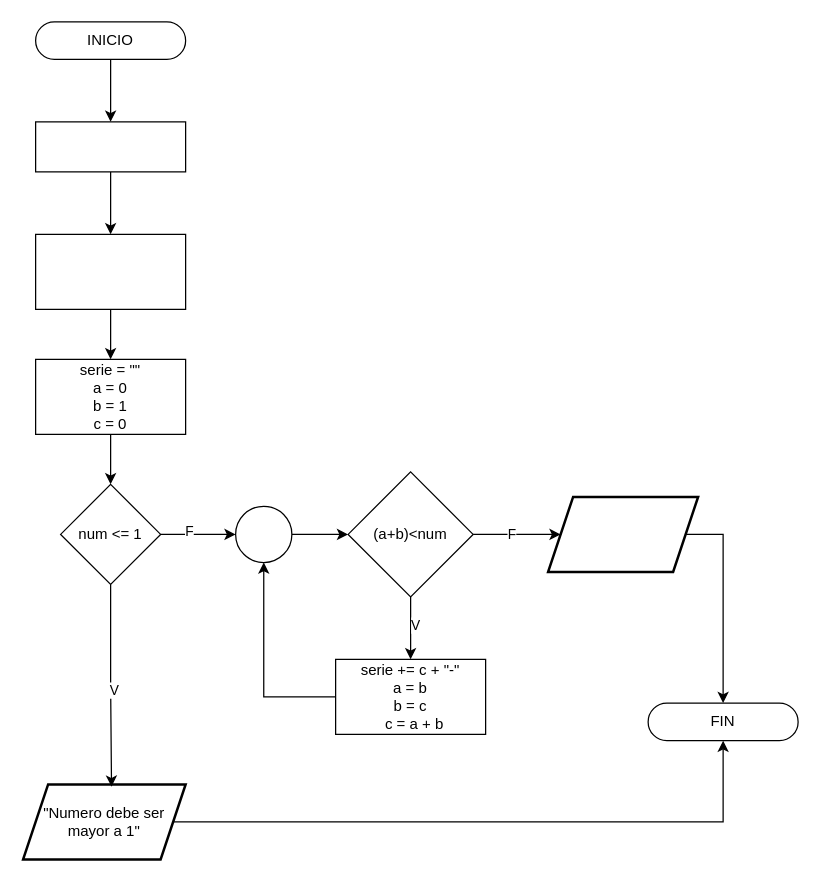
Some shapes in this 820 by 883 pixel diagram are drawn without their labels. Each missing label, with the centre of its shape:
int num (parametro): (110,146)
serie: (622,533)
string serie int a int b int c: (110,271)
